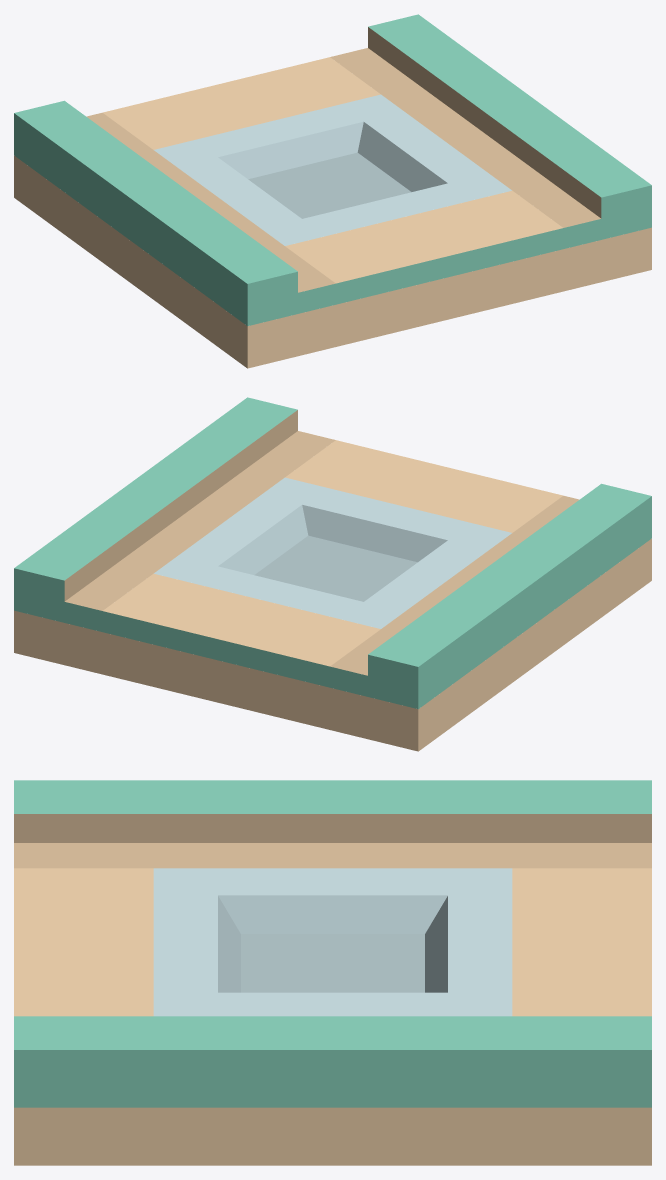
Rendered from tile_spawn.glb.
3 views of the same model, one above another, from view 1: azimuth 30°, elevation 25°; view 2: azimuth 150°, elevation 25°; view 3: azimuth 270°, elevation 25° (orthographic). The views are drawn at different scales.
Visible parts, largest first — view 1: tile_spawn; view 2: tile_spawn; view 3: tile_spawn.
Part boxes in pixels (x1=…): tile_spawn: x1=14, y1=14, x2=651, y2=368; tile_spawn: x1=14, y1=397, x2=651, y2=751; tile_spawn: x1=14, y1=780, x2=651, y2=1165.
Bounding box in the file's own units: 1 × 0.2 × 1.
